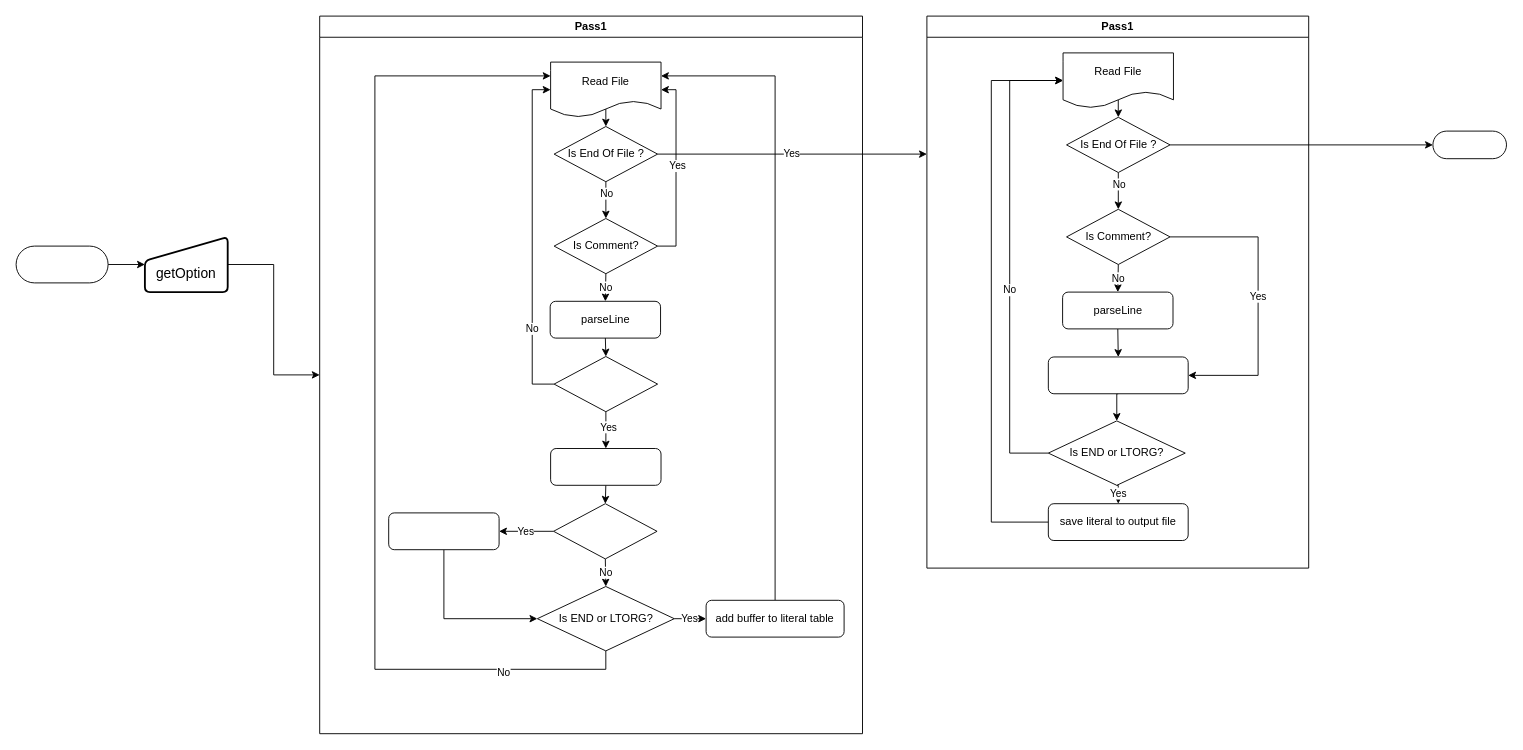
Some shapes in this 1523 by 750 pixel diagram are drawn without their labels. Each missing label, with the box of its shape:
add literal to buffer: (388, 512, 499, 550)
addSymbol: (550, 448, 661, 485)
End: (1432, 130, 1506, 159)
Has Label?: (553, 356, 658, 412)
Has Literal?: (553, 503, 657, 559)
save result to output file: (1047, 356, 1188, 394)
start: (15, 245, 108, 283)
